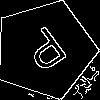P: (20, 24, 76, 81)
